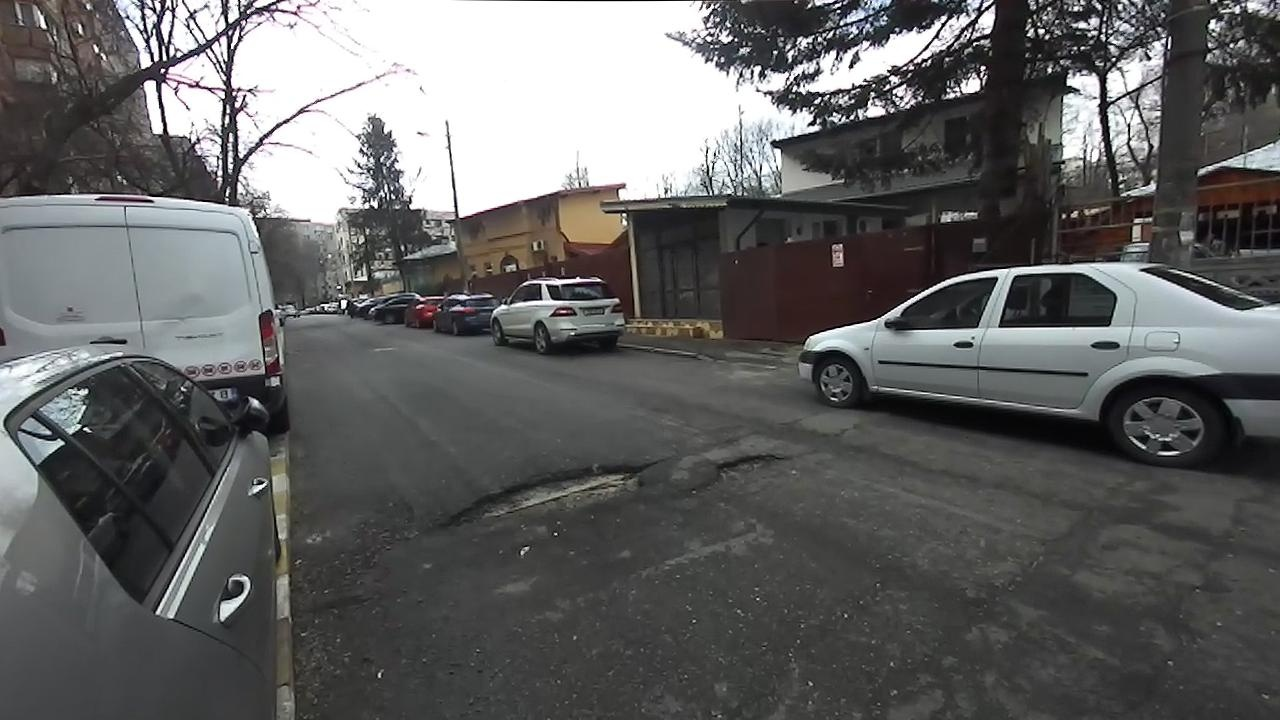pothole: (435, 460, 652, 534), (696, 449, 793, 492)
